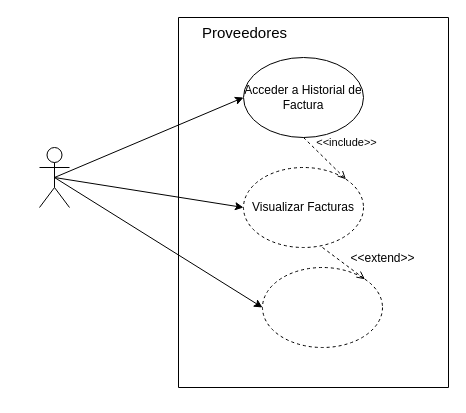
This 466x413 diagram has some shape labels left out. The shapes that lost their labels are listed below. From the top down, each one's box as (x1, y1, x2, y2) in pixels, then its label:
(38, 146, 70, 208): Administrador
(262, 266, 382, 348): Filtrar por Fecha, Estado y Cliente
